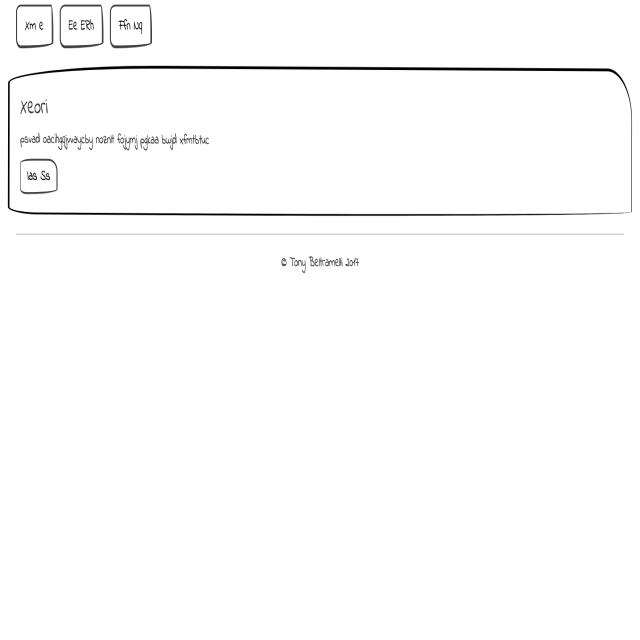Button: (17, 155, 65, 197)
Card: (2, 65, 640, 219)
Footer: (3, 226, 640, 640)
Heading 6: (17, 90, 54, 126)
Navigation Bar: (13, 6, 161, 59)
Paragraph: (16, 124, 213, 157)
